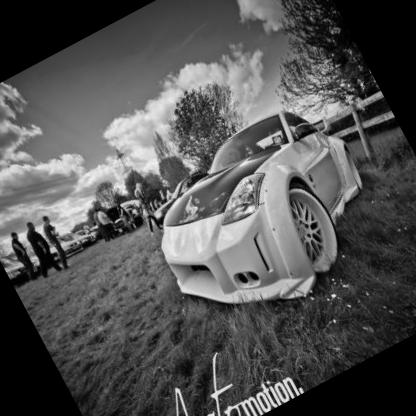car: (109, 68, 412, 354)
